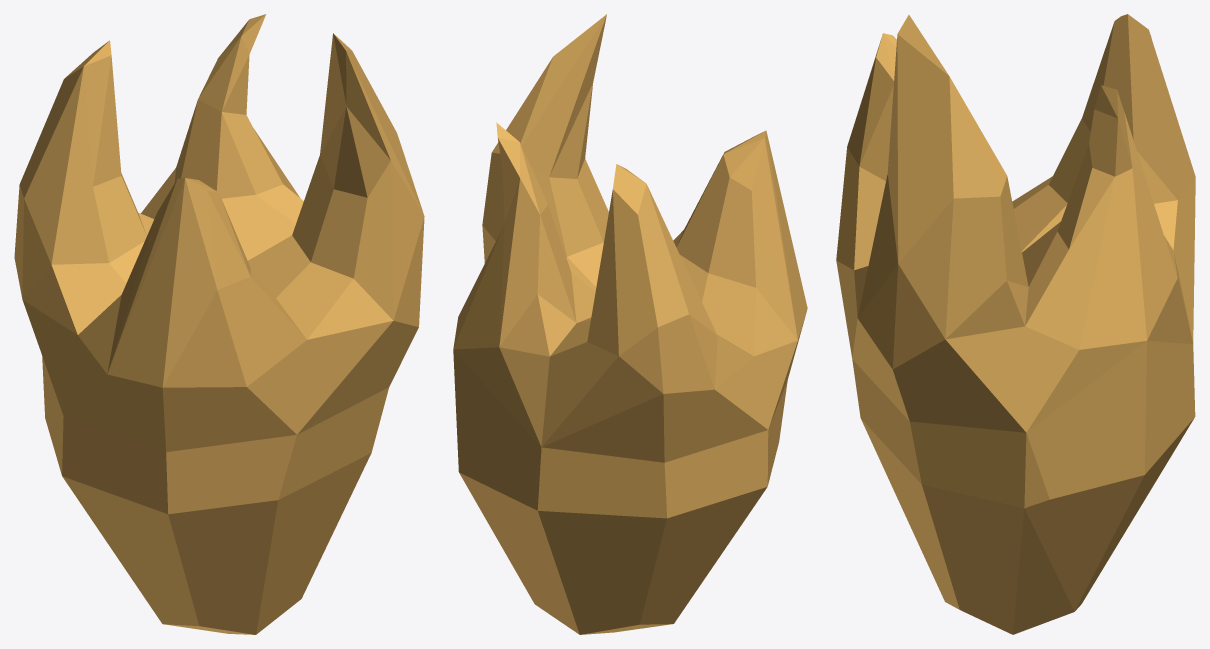
Rendered from Fire.glb.
The picture shows the model from 3 angles, left to right: view 1: azimuth 30°, elevation 25°; view 2: azimuth 150°, elevation 25°; view 3: azimuth 270°, elevation 25°; orthographic projection. The views are drawn at different scales.
Visible parts, largest first — view 1: Fire_Cube.001; view 2: Fire_Cube.001; view 3: Fire_Cube.001.
Part boxes in pixels (x1,y1,x2,y2): Fire_Cube.001: (14,14,424,634); Fire_Cube.001: (453,14,807,634); Fire_Cube.001: (836,14,1195,634).
Size of the model in its own units: 0.6166 by 1.12 by 0.5704.
